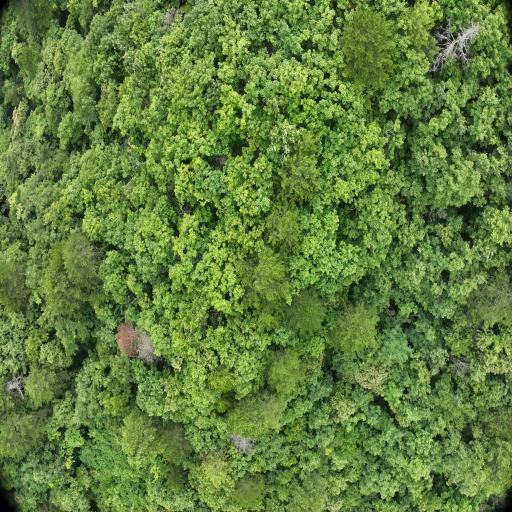dead-tree: (439, 30, 469, 56), (234, 437, 248, 447), (143, 336, 148, 358), (9, 382, 20, 390)
sick-tree: (122, 328, 134, 350)
